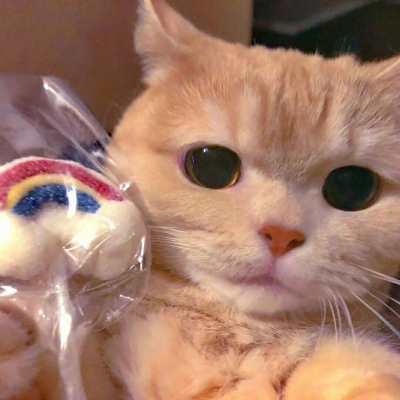cat: (118, 1, 397, 324)
